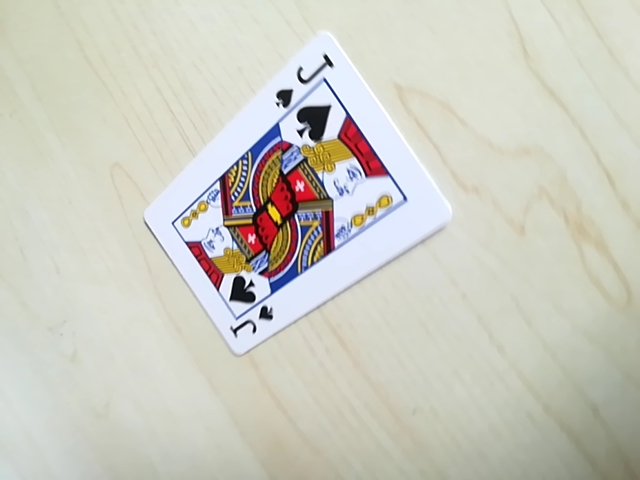ht j: (271, 44, 338, 111), (221, 293, 279, 348)
